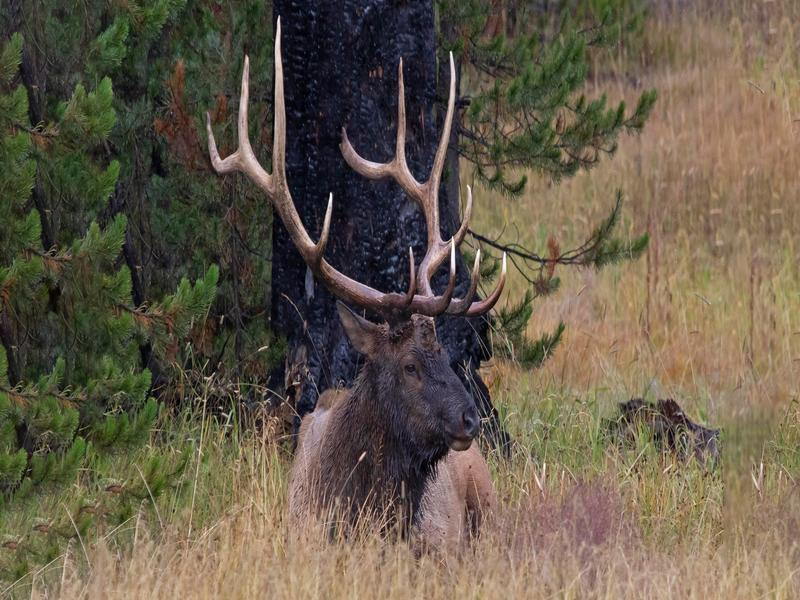elk: (209, 74, 514, 559)
